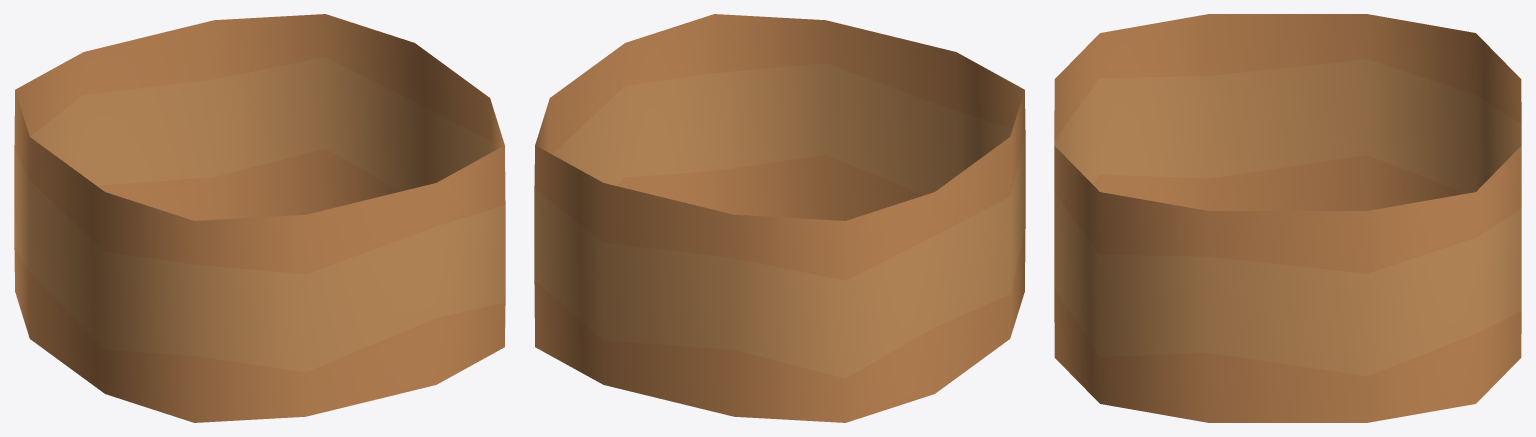
Rendered from ground 01 tile_toon_material_0.001.glb.
3 views of the same model, side by side, from view 1: azimuth 30°, elevation 25°; view 2: azimuth 150°, elevation 25°; view 3: azimuth 270°, elevation 25° (orthographic). The views are drawn at different scales.
Visible parts, largest first — view 1: ground 01 tile_toon_material_0.001; view 2: ground 01 tile_toon_material_0.001; view 3: ground 01 tile_toon_material_0.001.
Boxes of the visible parts, x1,y1,x2,y2 form: ground 01 tile_toon_material_0.001: [14, 14, 505, 422]; ground 01 tile_toon_material_0.001: [534, 14, 1025, 422]; ground 01 tile_toon_material_0.001: [1054, 14, 1521, 422].
Bounding box in the file's own units: 2 × 1 × 2.
1 material, 1 textured.
